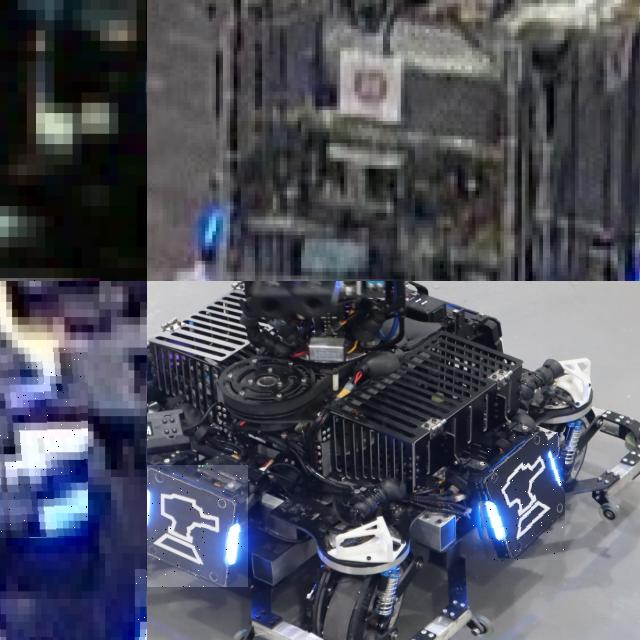B4: (0, 347, 88, 538)
Bs: (147, 464, 247, 587), (473, 432, 565, 560)
